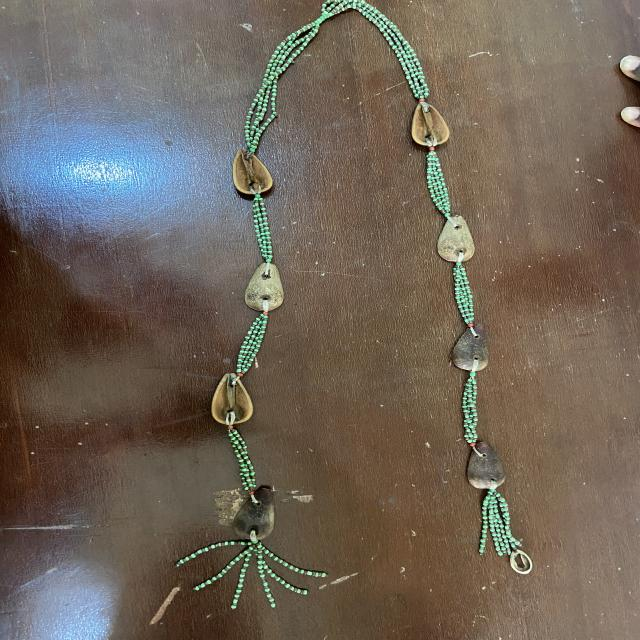facedown: (229, 483, 284, 546), (444, 319, 498, 377), (432, 212, 487, 264), (463, 437, 510, 495), (242, 258, 288, 317)
faceup: (204, 368, 256, 430), (224, 144, 278, 199), (403, 99, 452, 149)
